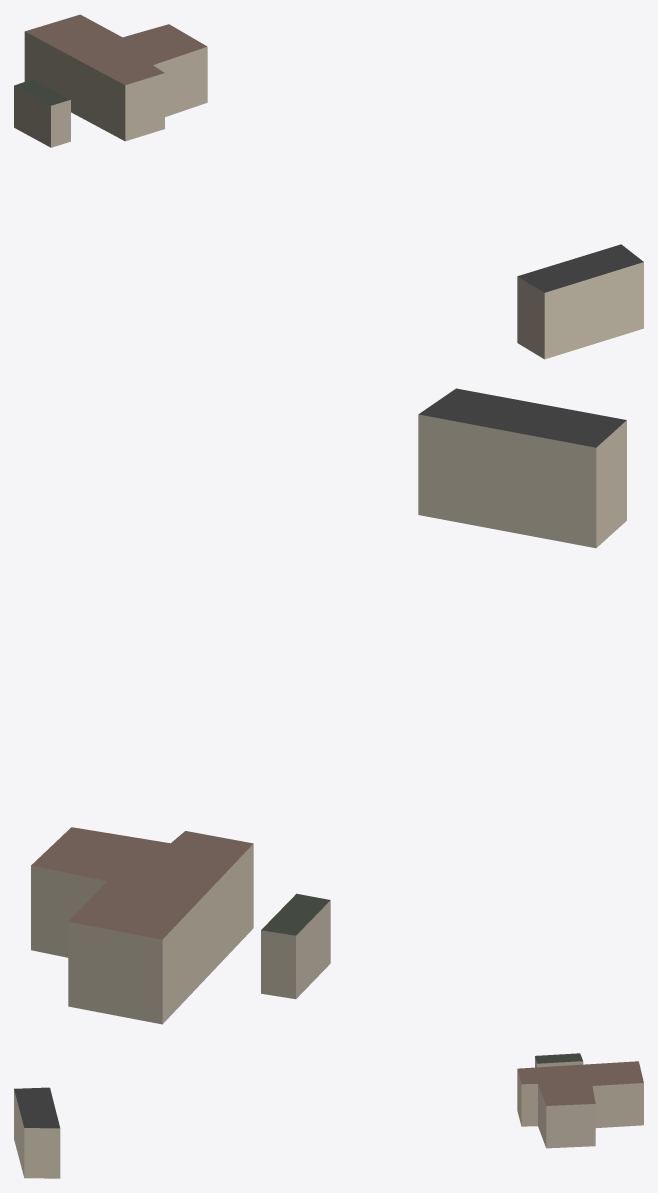
The picture shows the model from 3 angles, top to bottom: view 1: azimuth 30°, elevation 25°; view 2: azimuth 150°, elevation 25°; view 3: azimuth 270°, elevation 25°; orthographic projection. The views are drawn at different scales.
Parts seen in each view (by area): view 1: tuile; view 2: tuile; view 3: tuile.
Part boxes in pixels (bbox=[...]): tuile: bbox=[14, 14, 643, 359]; tuile: bbox=[31, 388, 626, 1024]; tuile: bbox=[14, 1053, 643, 1178].
Bounding box in the file's own units: 22.3 × 5.78 × 61.2.
